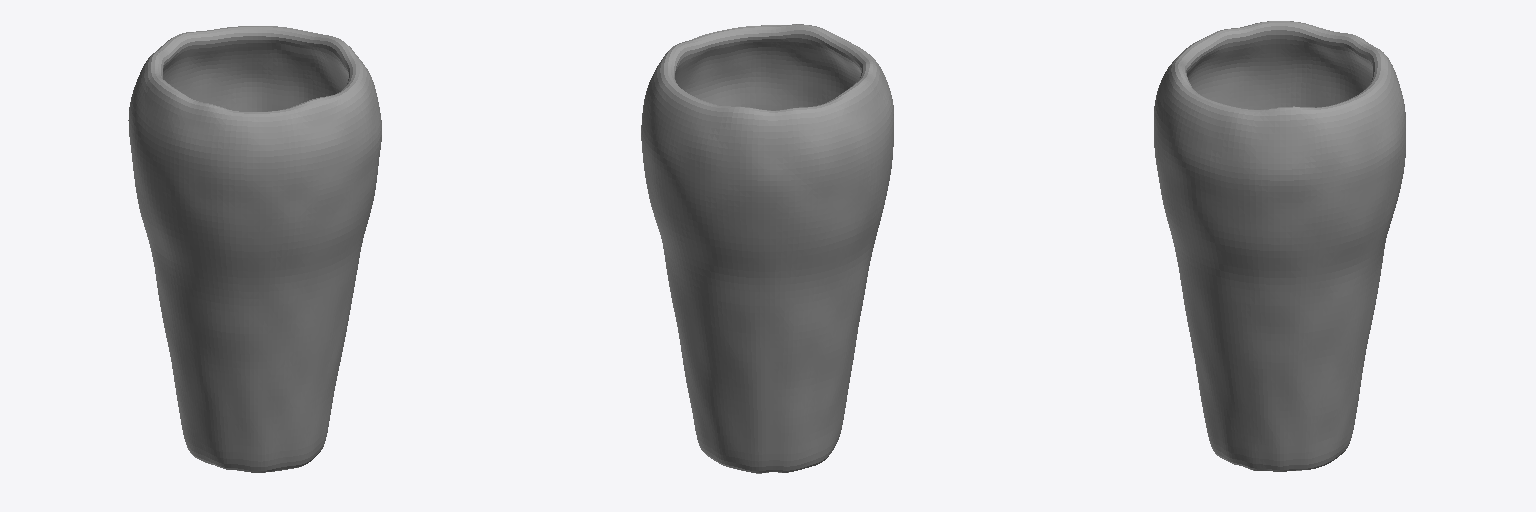
Rendered from pot.obj.
The picture shows the model from 3 angles: view 1: azimuth 30°, elevation 25°; view 2: azimuth 150°, elevation 25°; view 3: azimuth 270°, elevation 25°; orthographic projection.
Visible parts, largest first — view 1: Sphere; view 2: Sphere; view 3: Sphere.
Boxes of the visible parts, x1=… form: Sphere: x1=128, y1=26, x2=381, y2=472; Sphere: x1=641, y1=24, x2=893, y2=473; Sphere: x1=1154, y1=21, x2=1405, y2=471.
Bounding box in the file's own units: 2 × 3.33 × 1.99.